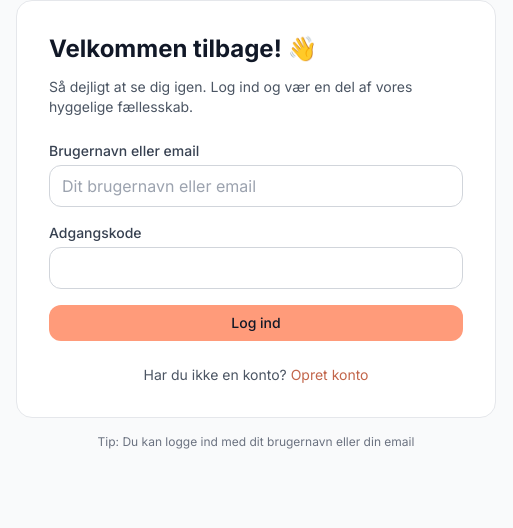
Scenario: Login Flow Integration › shows error with invalid credentials
// Fill in wrong credentials
Type "wronguser" into the field labelled "Brugernavn eller email". click: (256, 186)
box: [49,165,463,207]
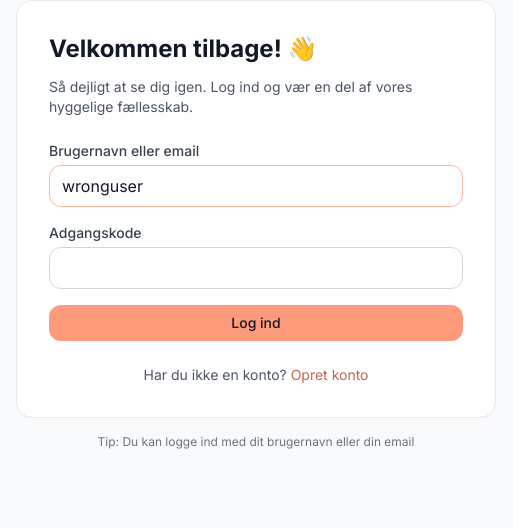
Type "wrongpass" into the password field labelled "Adgangskode". click: (256, 268)
box: [49,247,463,289]
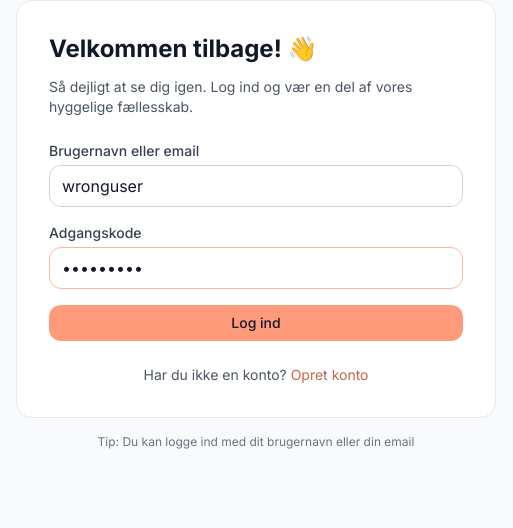
// Submit form
Click the button "Log ind". click: (256, 323)
box: [49,305,463,341]
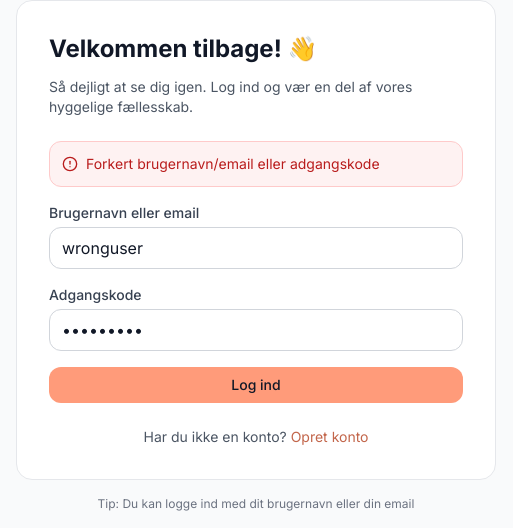
Result: the text "Forkert brugernavn/email eller adgangskode" is shown at [49,141,463,187]
